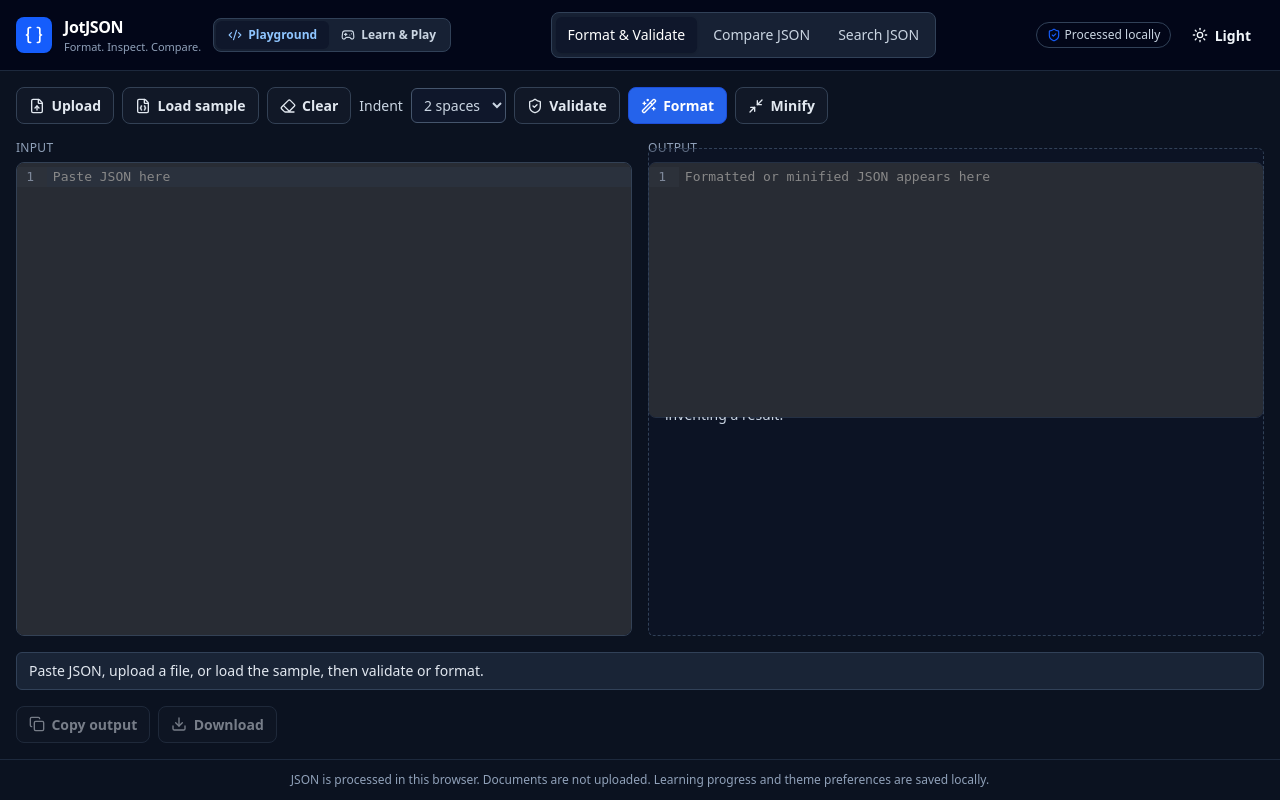
Test: JotJSON Learn & Play › displays the first-time welcome and starts Lesson 1
This screenshot has width=1280, height=800.
Click the tab "Learn & Play" at x=389, y=35, box [329,21,448,49]
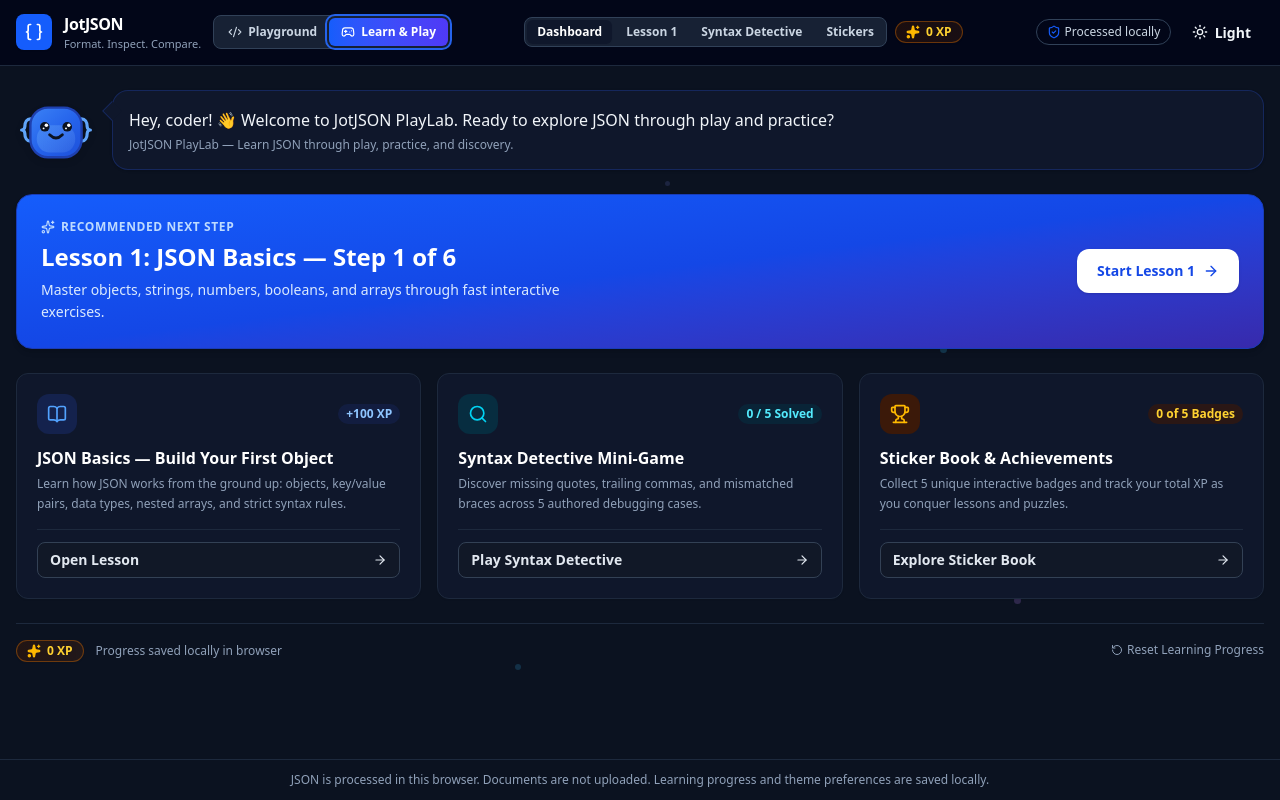
Check: the text "Welcome to JotJSON PlayLab" is shown, box [129,108,834,130]
# Click Start Lesson 1
Click the button "Start Lesson 1" at x=1158, y=271, box [1077,249,1239,293]
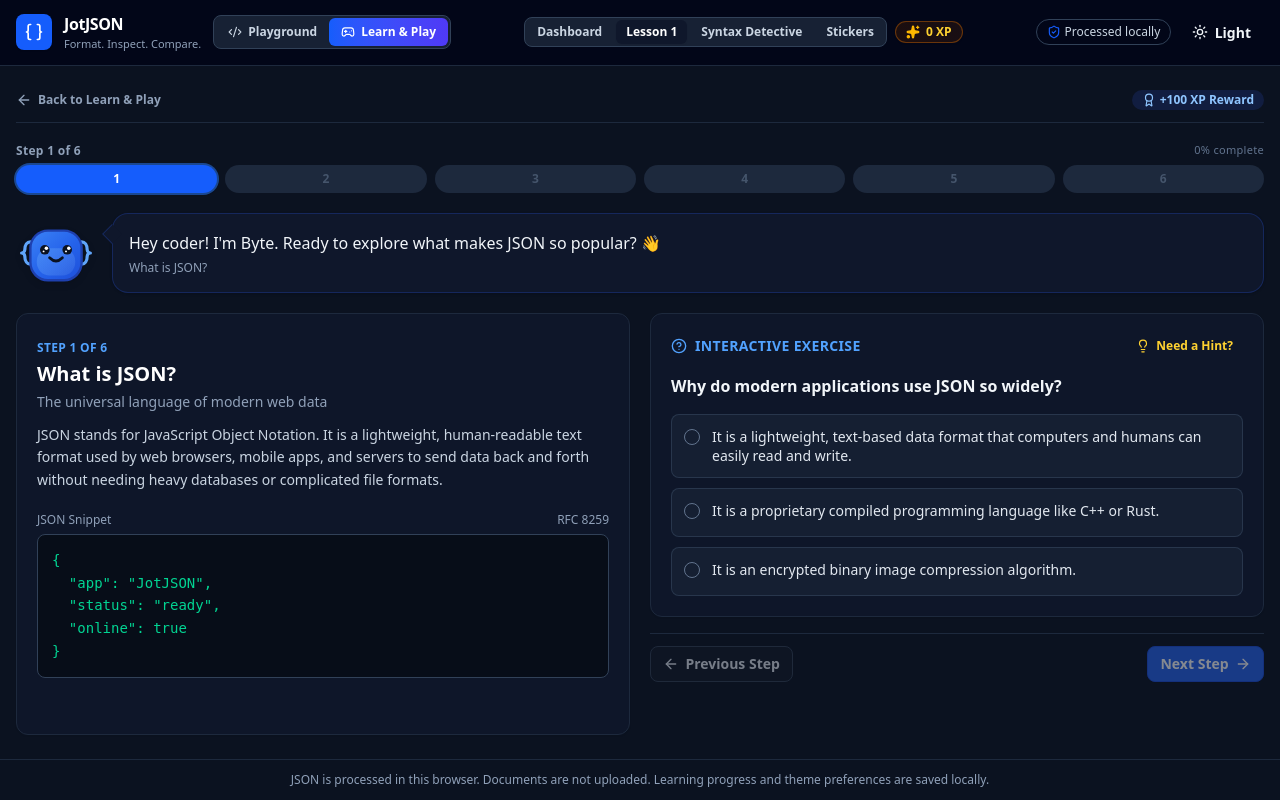
Check: the text "Step 1 of 6" in the row of "% complete" is shown, box [16,142,81,158]
Check: the heading "What is JSON?" is shown, box [37,360,176,386]
Check: the button "Need a Hint?" is shown, box [1126,334,1243,358]
